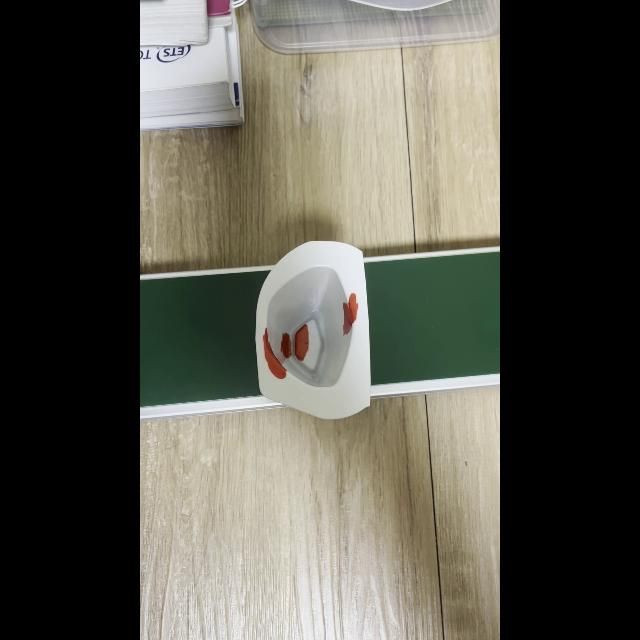dirty: (254, 269, 370, 395)
